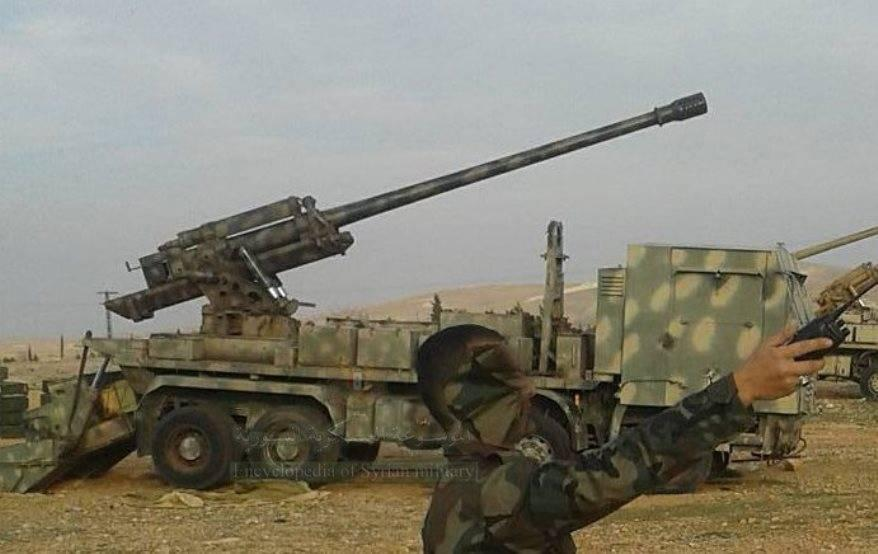sau: (75, 82, 878, 490)
